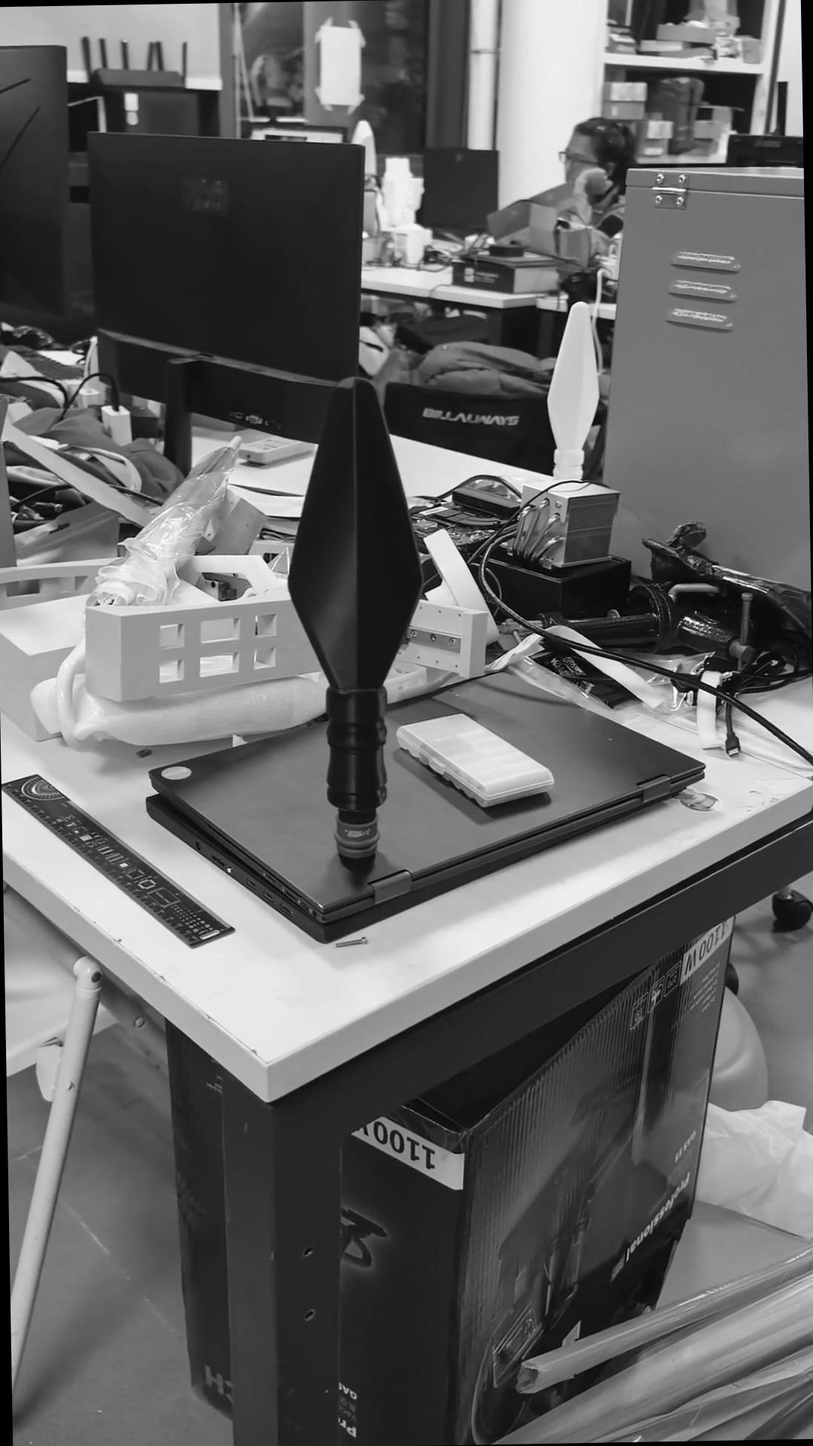base: (328, 812, 383, 868)
